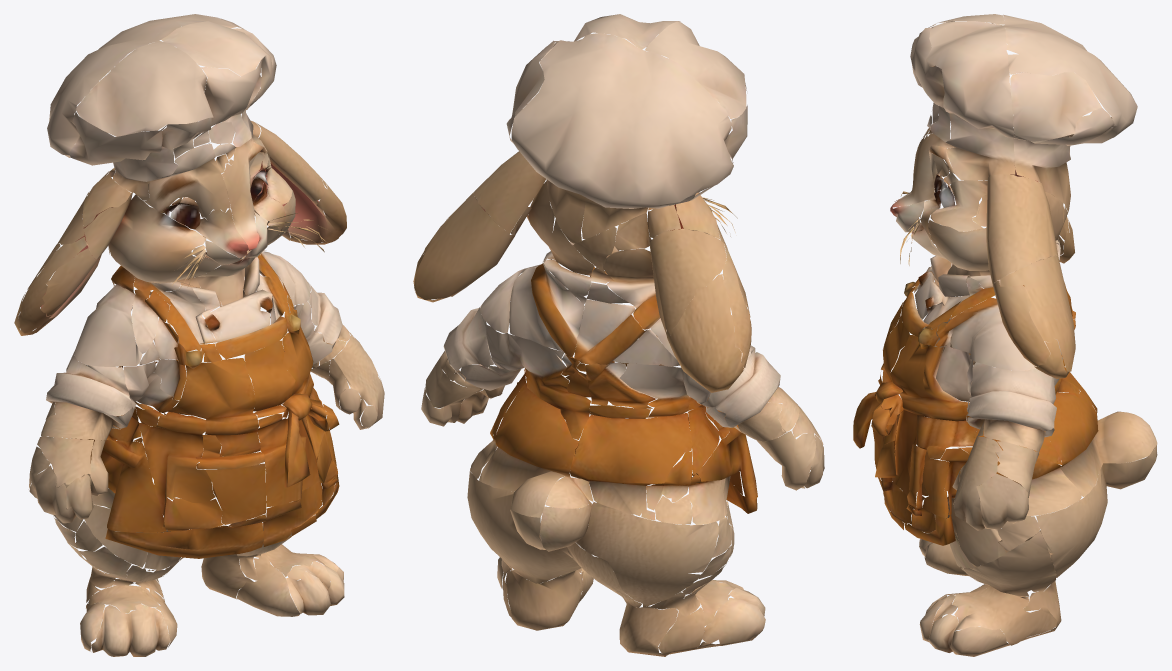
Rendered from 01_bakery_rabbit-mobile-v1.glb.
The picture shows the model from 3 angles, left to right: view 1: azimuth 30°, elevation 25°; view 2: azimuth 150°, elevation 25°; view 3: azimuth 270°, elevation 25°; orthographic projection. The views are drawn at different scales.
Parts seen in each view (by area): view 1: tripo_node_5cb6d970-984c-4f92-893c-8b922d0eeea1; view 2: tripo_node_5cb6d970-984c-4f92-893c-8b922d0eeea1; view 3: tripo_node_5cb6d970-984c-4f92-893c-8b922d0eeea1.
Boxes of the visible parts, x1,y1,x2,y2 form: tripo_node_5cb6d970-984c-4f92-893c-8b922d0eeea1: (14,14,384,656); tripo_node_5cb6d970-984c-4f92-893c-8b922d0eeea1: (413,14,824,656); tripo_node_5cb6d970-984c-4f92-893c-8b922d0eeea1: (853,14,1157,656).
Bounding box in the file's own units: 1.07 × 1.65 × 0.8007.
1 material, 1 textured.
